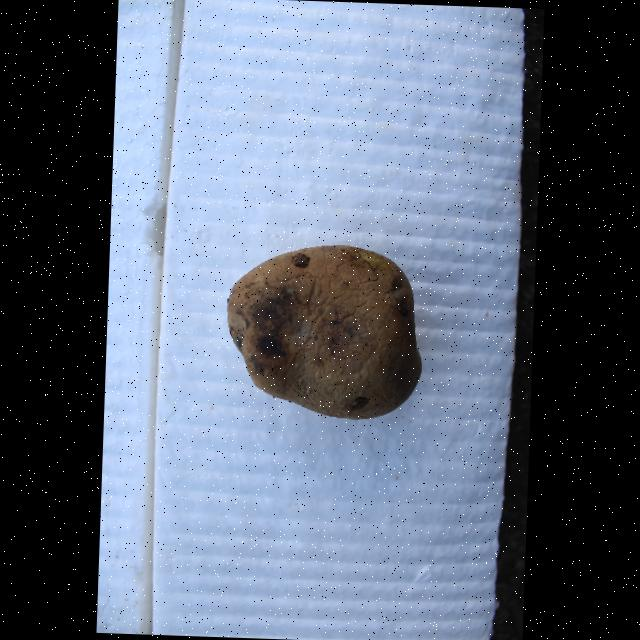Diseased-fungal potato: (218, 240, 428, 418)
